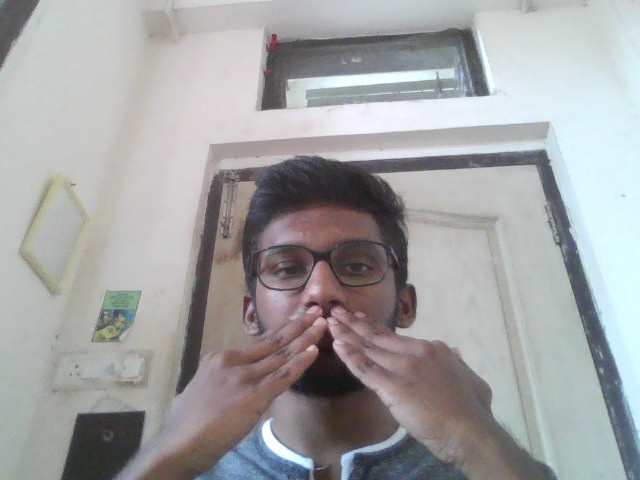Thank You: (137, 304, 505, 445)
